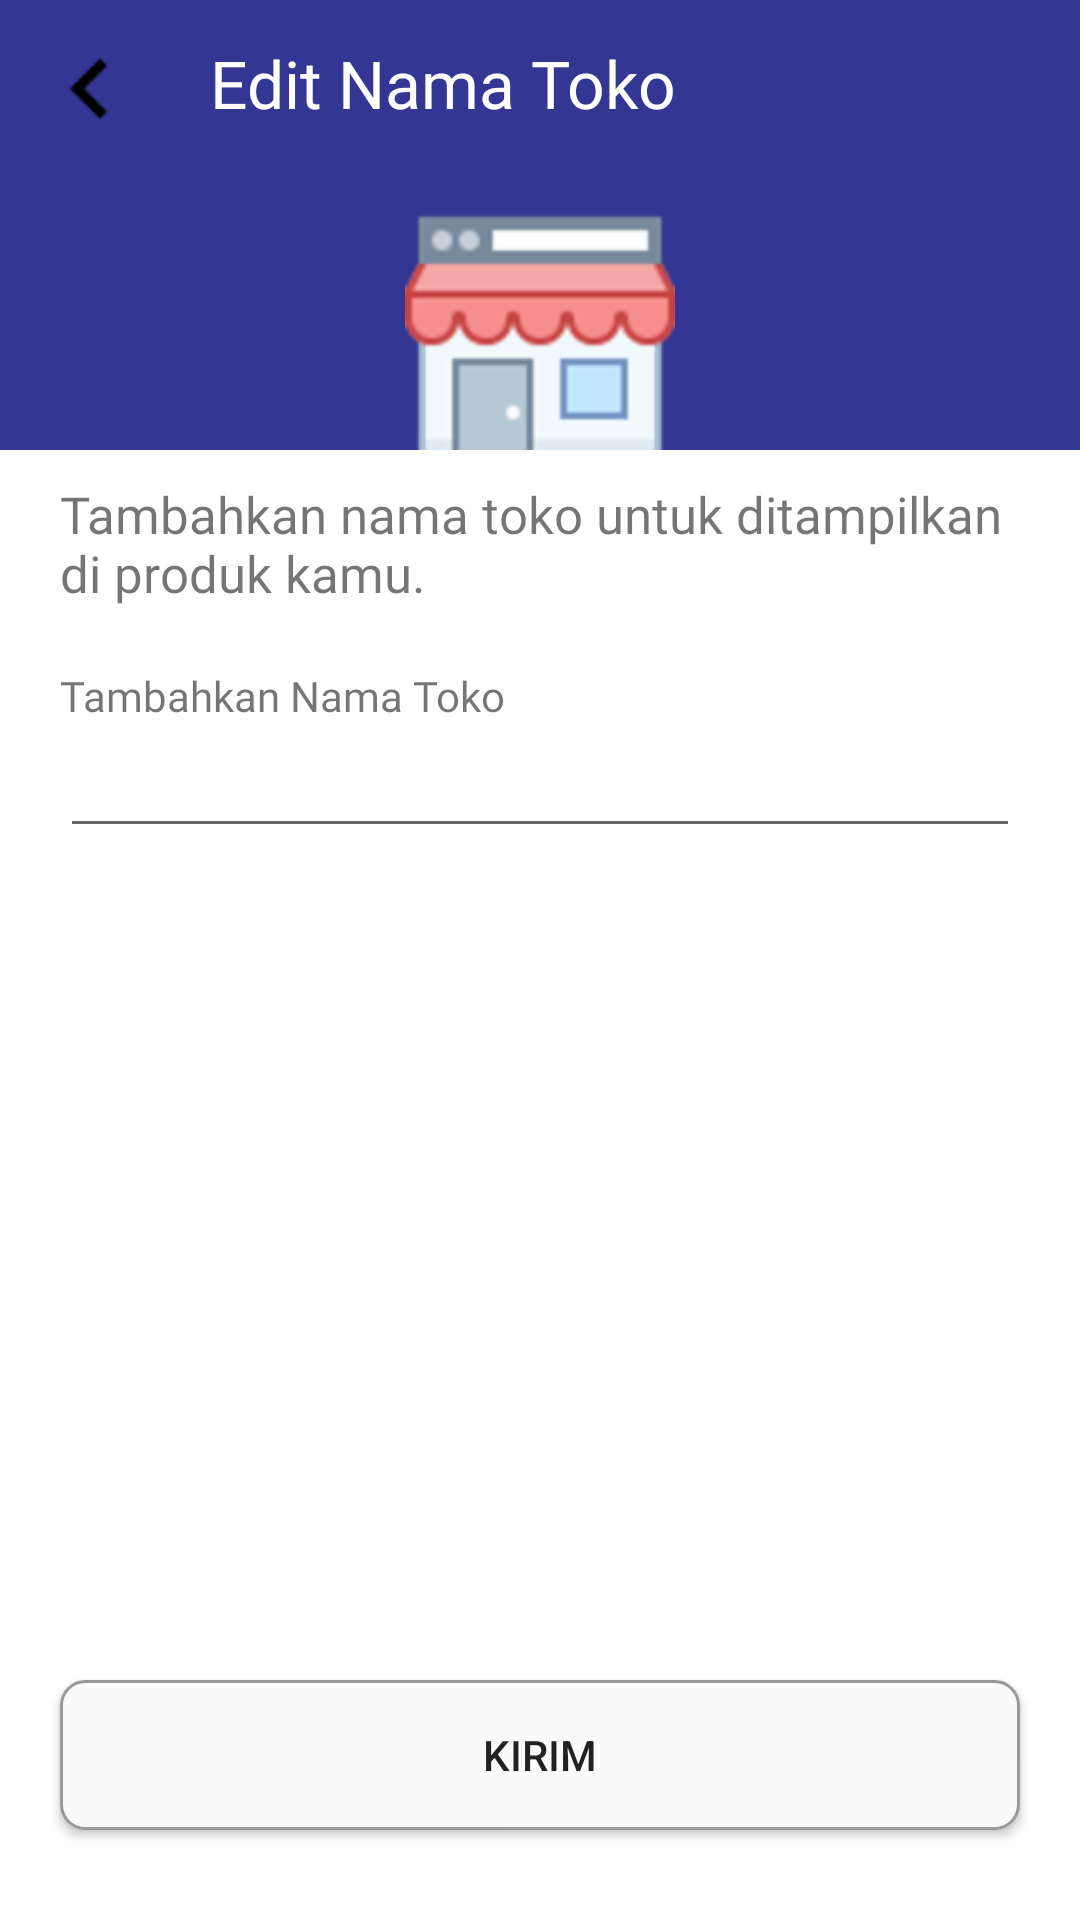

Screen size 1080 × 1920. Icon name, then its box in pixels as (left=x1, top=y1, right=x2, bottom=y2):
arrow left: (left=69, top=58, right=108, bottom=119)
